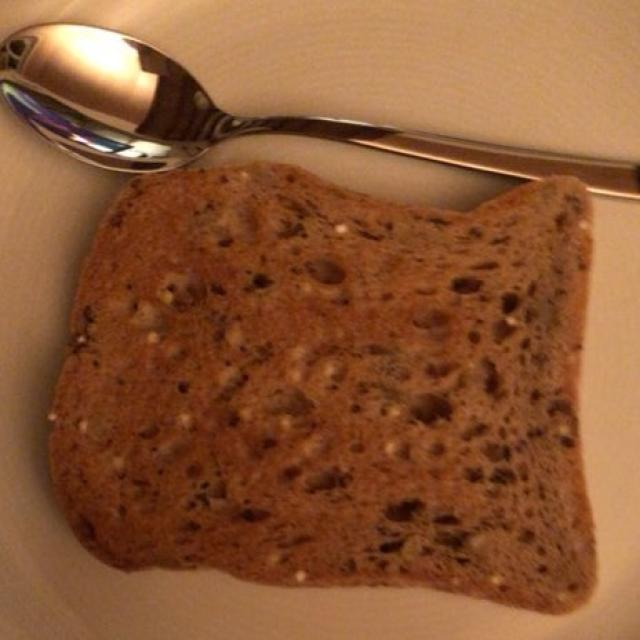thucan: (48, 164, 596, 614)
